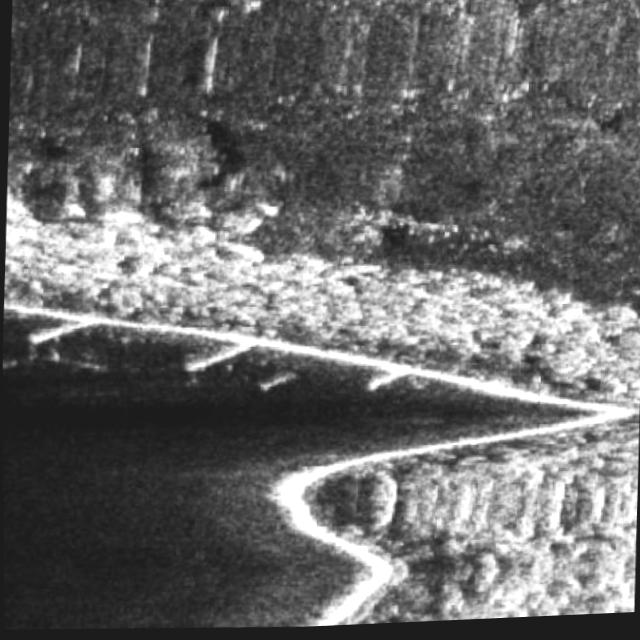bedrock group: (1, 166, 640, 640)
